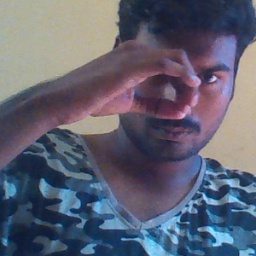O: (56, 37, 203, 127)
